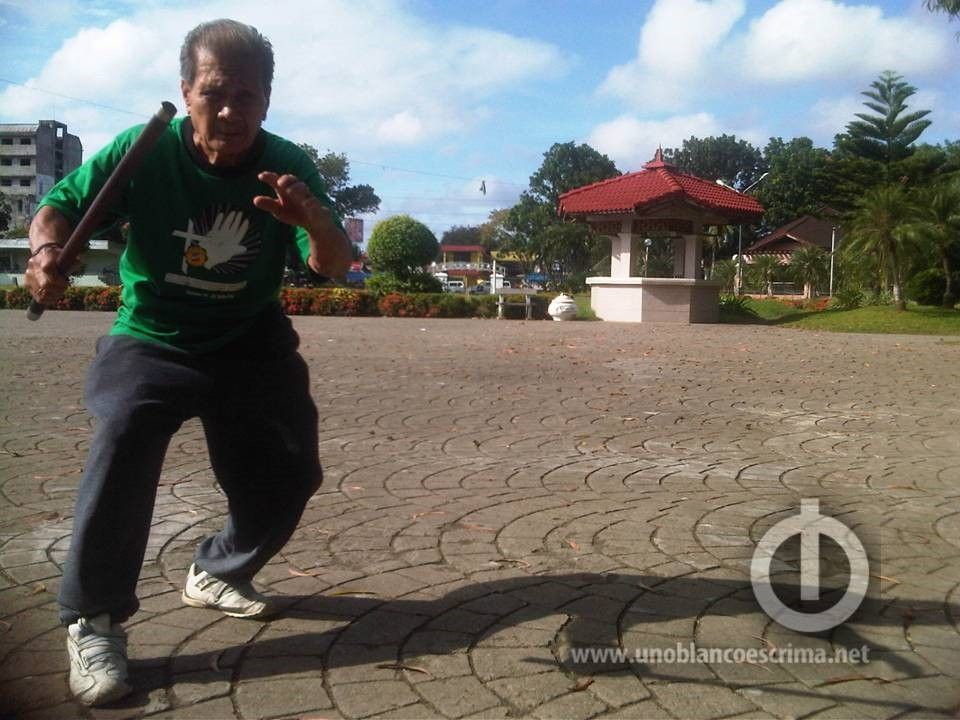baston_e: (40, 105, 156, 316)
baston_v: (151, 93, 181, 126), (21, 301, 45, 328)
